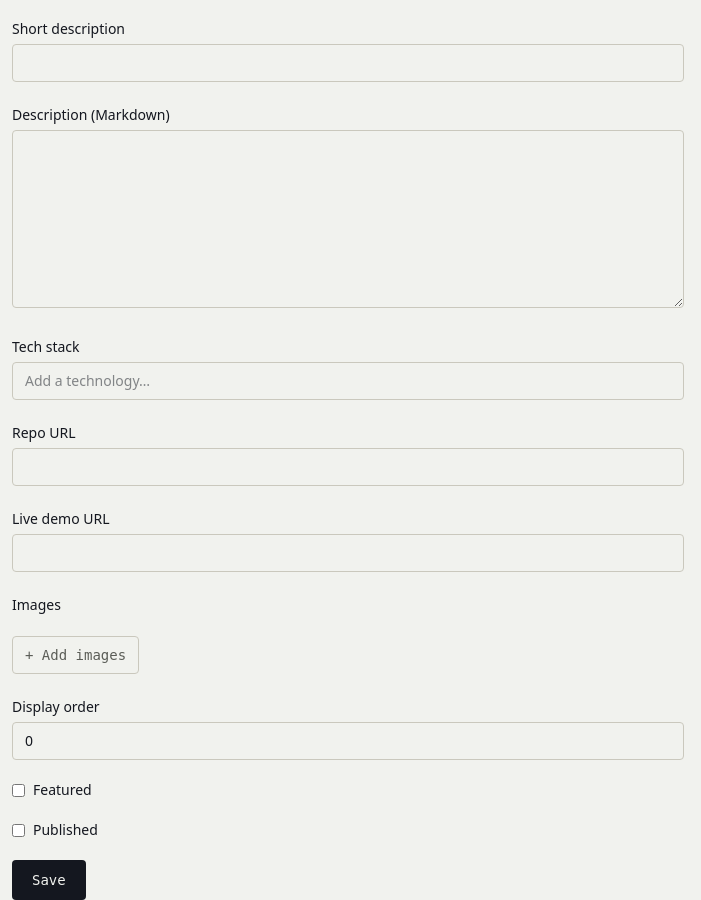
it: ProjectFormPage › shows client-side validation errors without hitting the network
The image size is (701, 900).
(page scrolled)
Click the button "Save" at {"x": 49, "y": 880}, box [12,860,86,899]
(page scrolled)
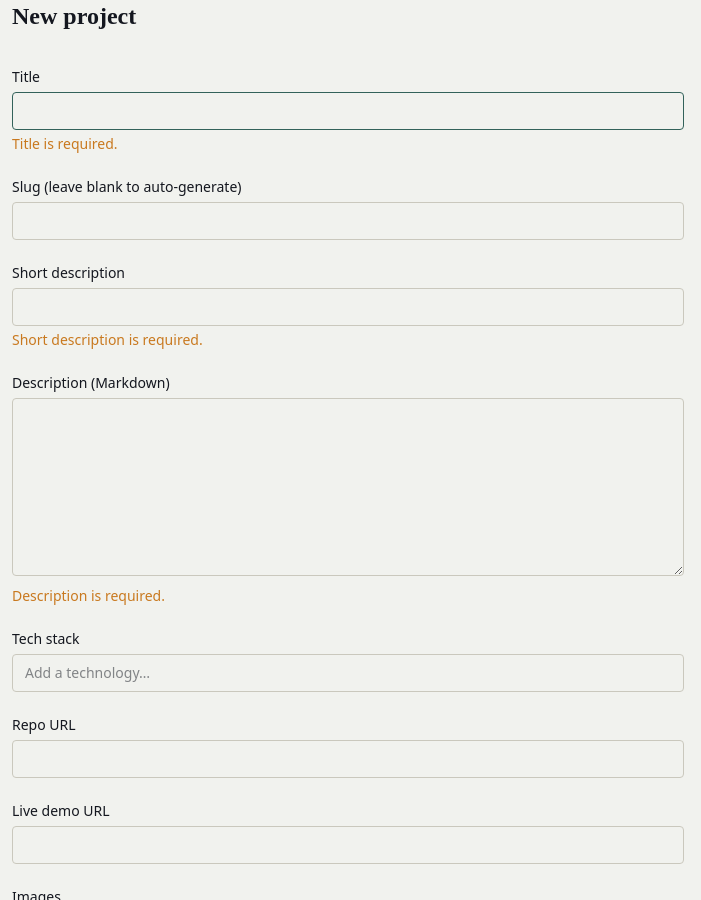
Check: the text "Title is required." is shown, box [12,134,118,153]
Check: the text "Short description is required." is shown, box [12,330,203,349]
Check: the text "Description is required." is shown, box [12,586,165,605]
